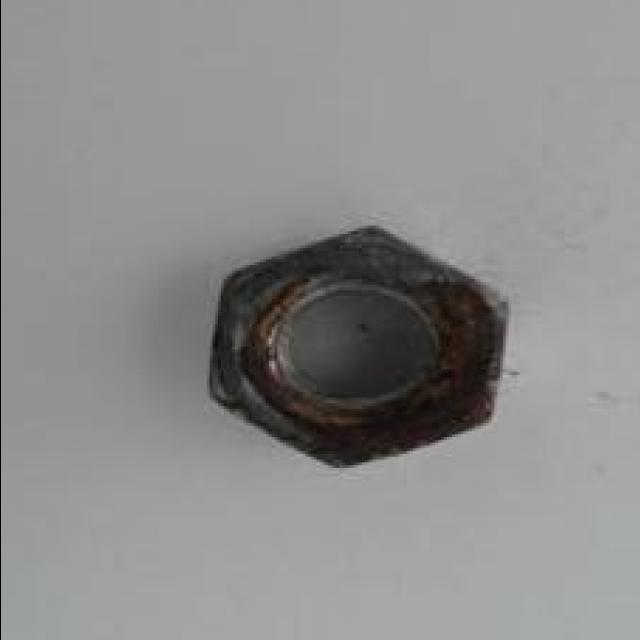ecrouNOK: (202, 213, 514, 477)
